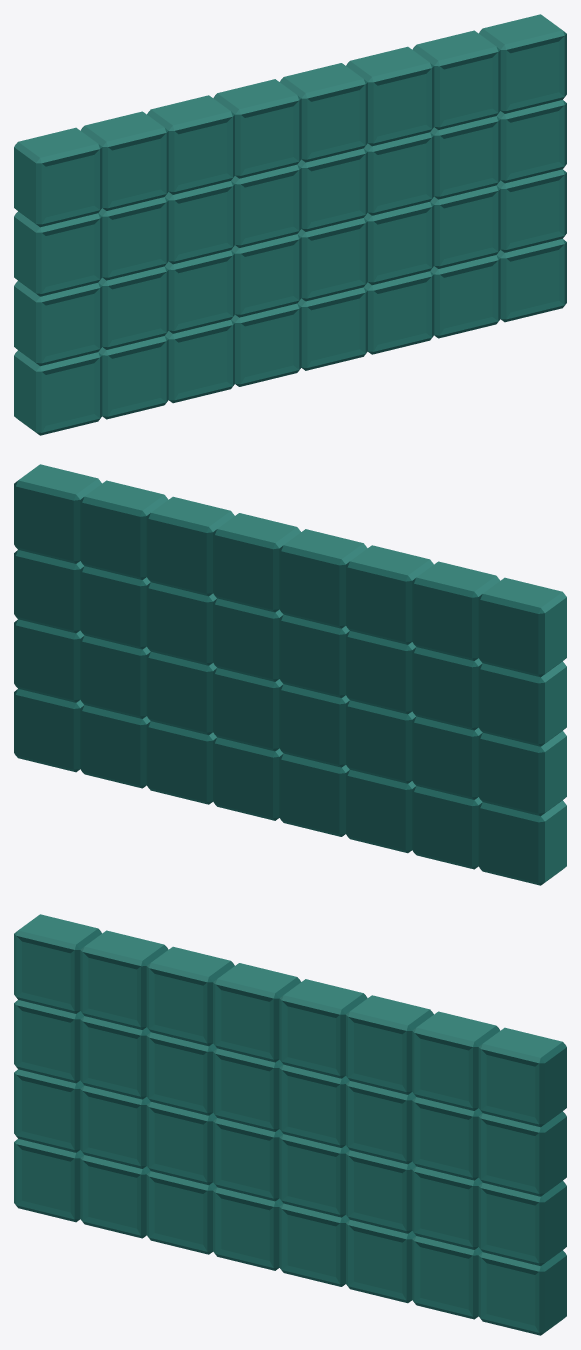
The model's file is Terrain_Block8x4.gltf.
3 renders of one model, top to bottom at view 1: azimuth 30°, elevation 25°; view 2: azimuth 150°, elevation 25°; view 3: azimuth 330°, elevation 25°, orthographic.
Visible parts, largest first — view 1: Terrain_Block8x4_baked; view 2: Terrain_Block8x4_baked; view 3: Terrain_Block8x4_baked.
Boxes of the visible parts, x1,y1,x2,y2 form: Terrain_Block8x4_baked: (14, 14, 566, 435); Terrain_Block8x4_baked: (14, 464, 566, 885); Terrain_Block8x4_baked: (14, 914, 566, 1335).
Size of the model in its own units: 8 by 4 by 0.6822.
